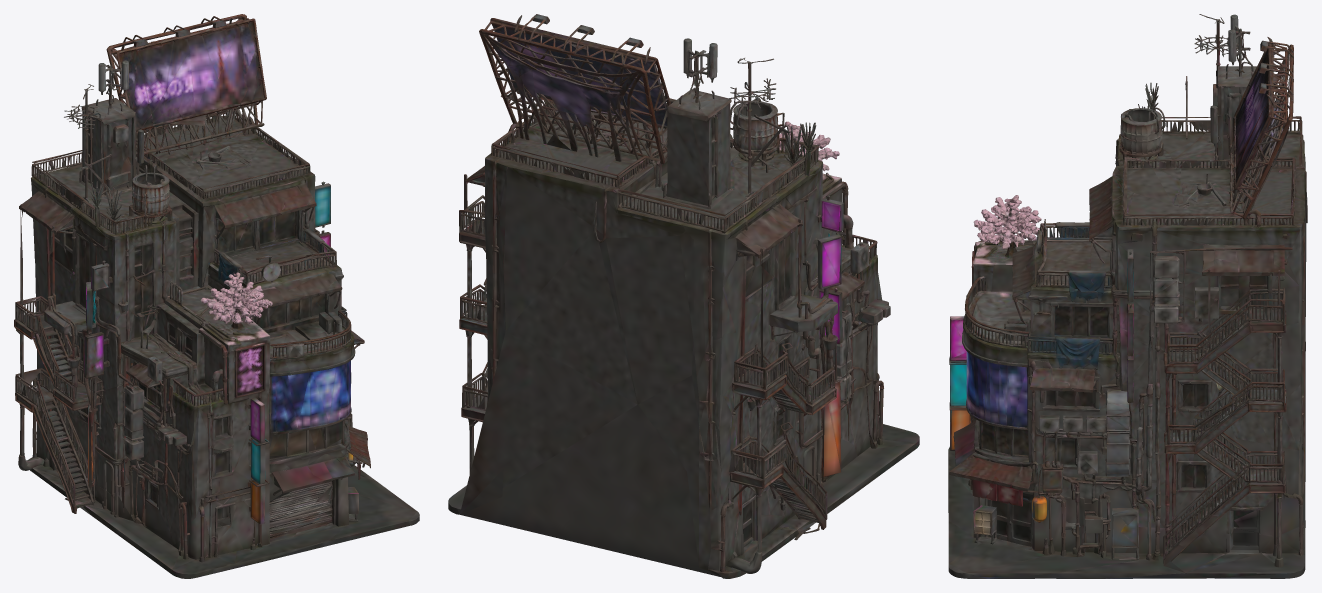
Rendered from neon-block.glb.
3 views of the same model, side by side, from view 1: azimuth 30°, elevation 25°; view 2: azimuth 150°, elevation 25°; view 3: azimuth 270°, elevation 25° (orthographic). The views are drawn at different scales.
Parts seen in each view (by area): view 1: output_unwrapped; view 2: output_unwrapped; view 3: output_unwrapped.
Part boxes in pixels (x1,y1,x2,y2): output_unwrapped: (14, 14, 419, 578); output_unwrapped: (448, 14, 919, 578); output_unwrapped: (948, 14, 1307, 578).
Size of the model in its own units: 1.28 by 1.9 by 1.35.
1 material, 1 textured.
